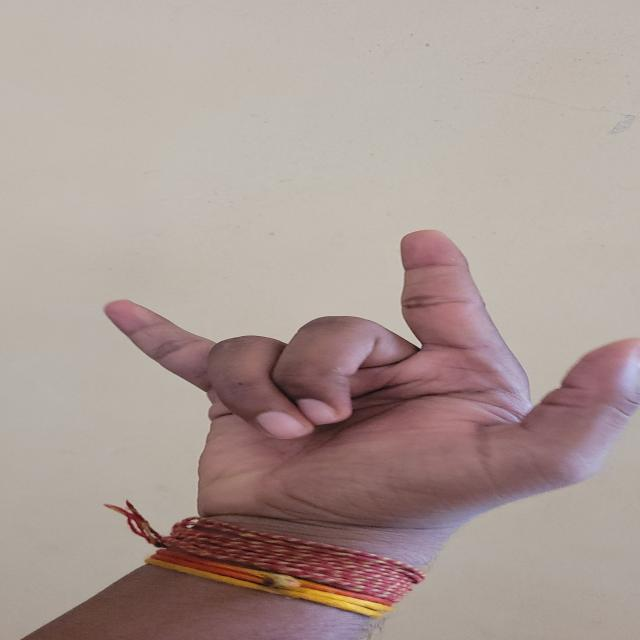i like you: (98, 223, 640, 549)
